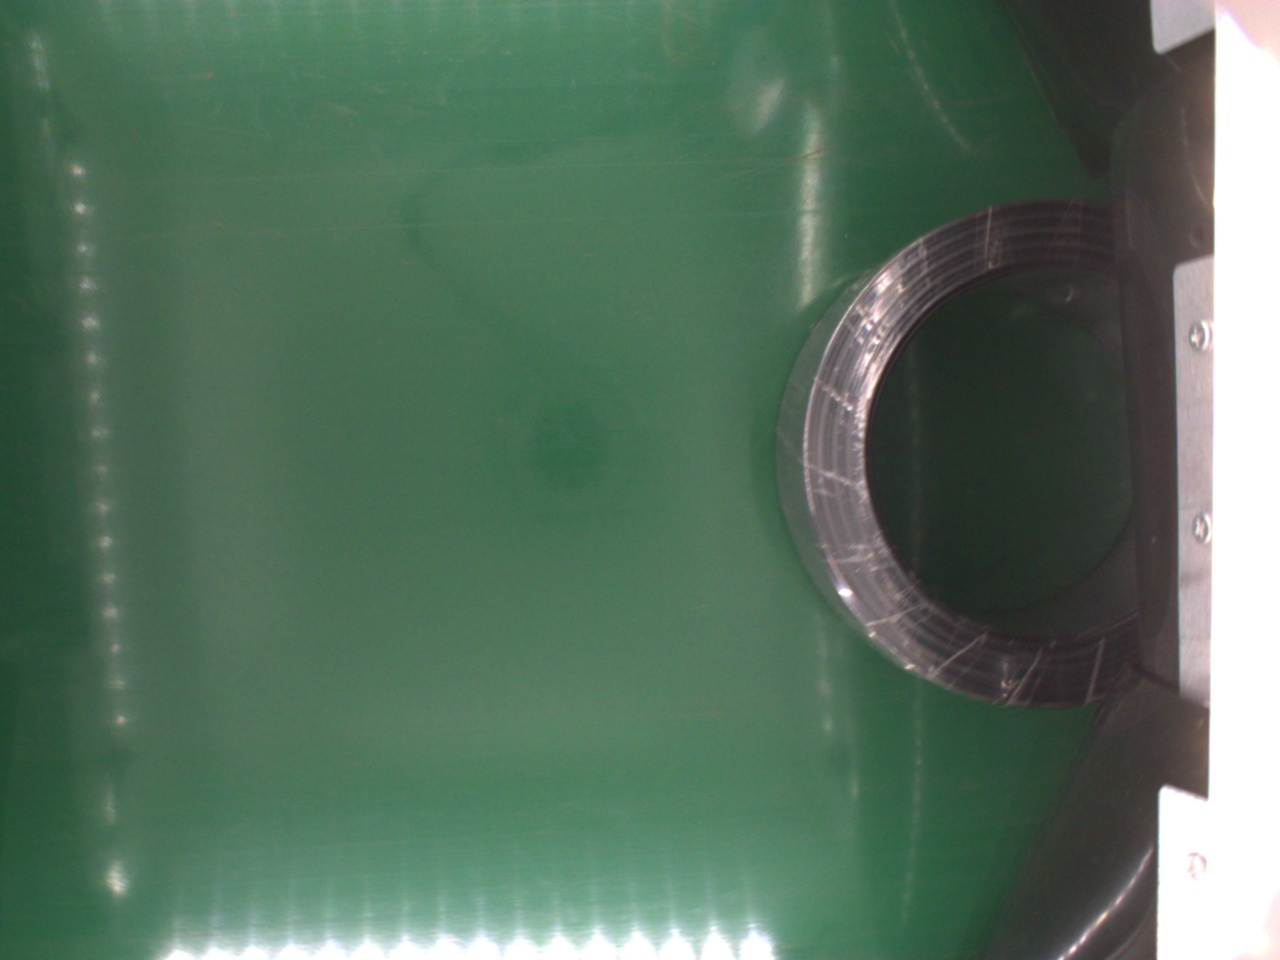black: (781, 194, 1148, 714)
